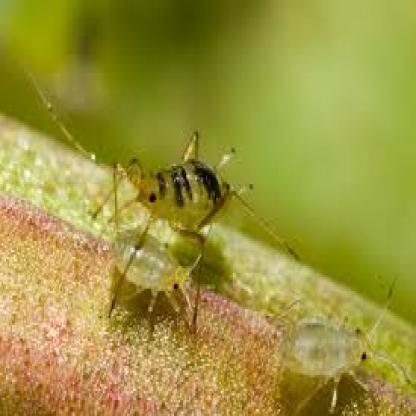aphid: (118, 122, 250, 264), (267, 281, 407, 402), (103, 215, 200, 318)
